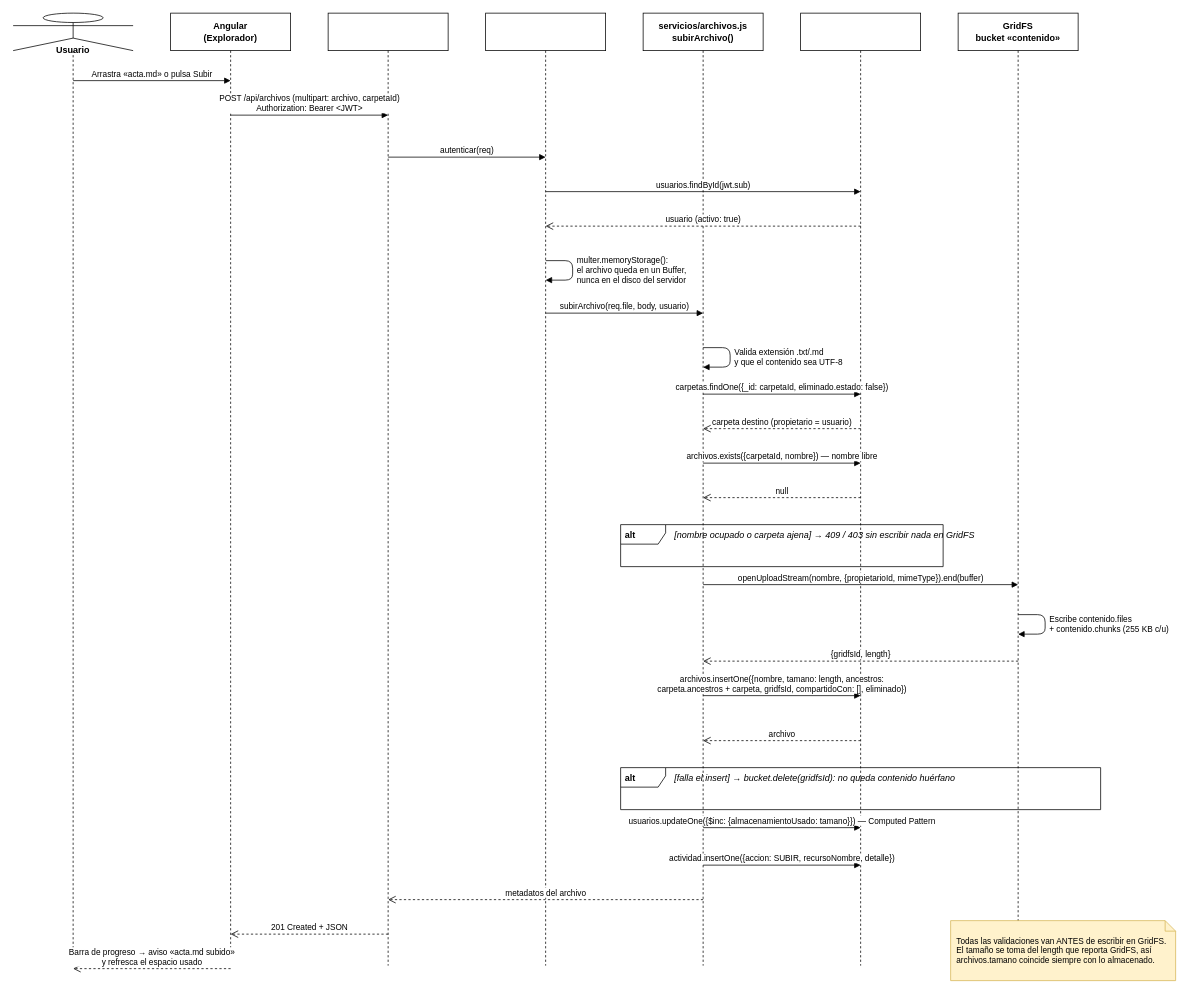
This 1189x994 diagram has some shape labels left out. The box of each missing label's shape, as (x1, y1, x2, y2) in pixels:
Express POST /api/archivos: (327, 12, 448, 966)
Middleware autenticar + multer: (485, 12, 606, 966)
MongoDB carpetas / archivos / usuarios / actividad: (800, 12, 921, 966)
